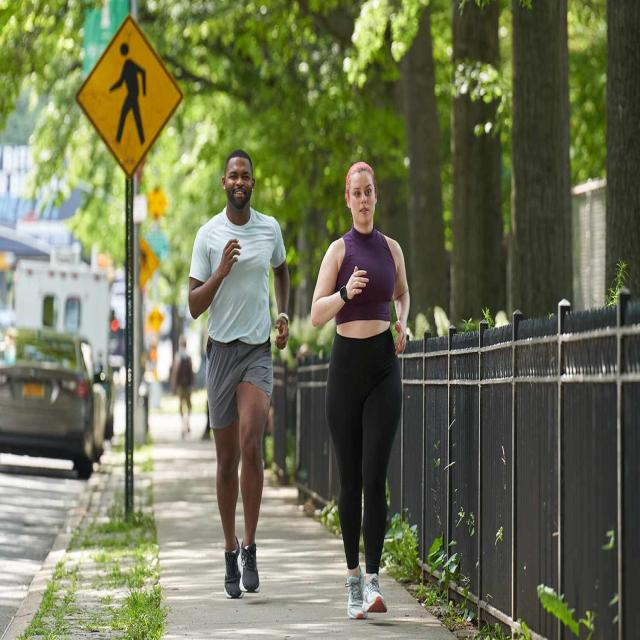Person: (187, 151, 290, 600), (312, 161, 410, 623)
